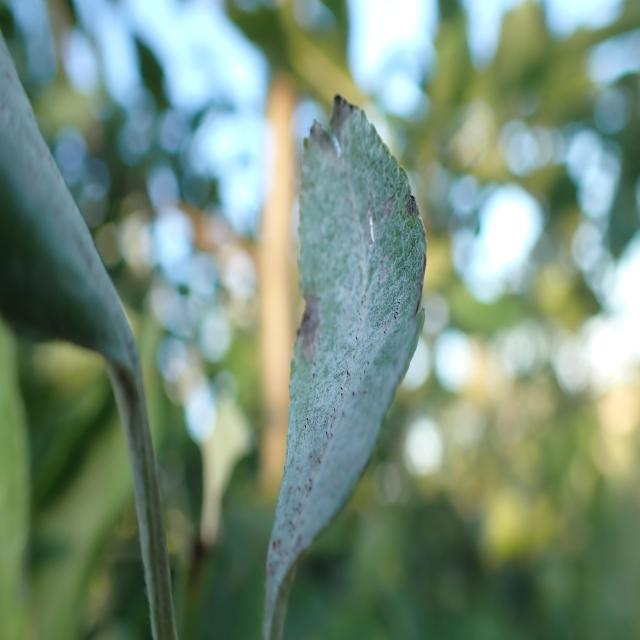Powdery_mildew: (0, 37, 197, 635), (275, 79, 427, 640)
